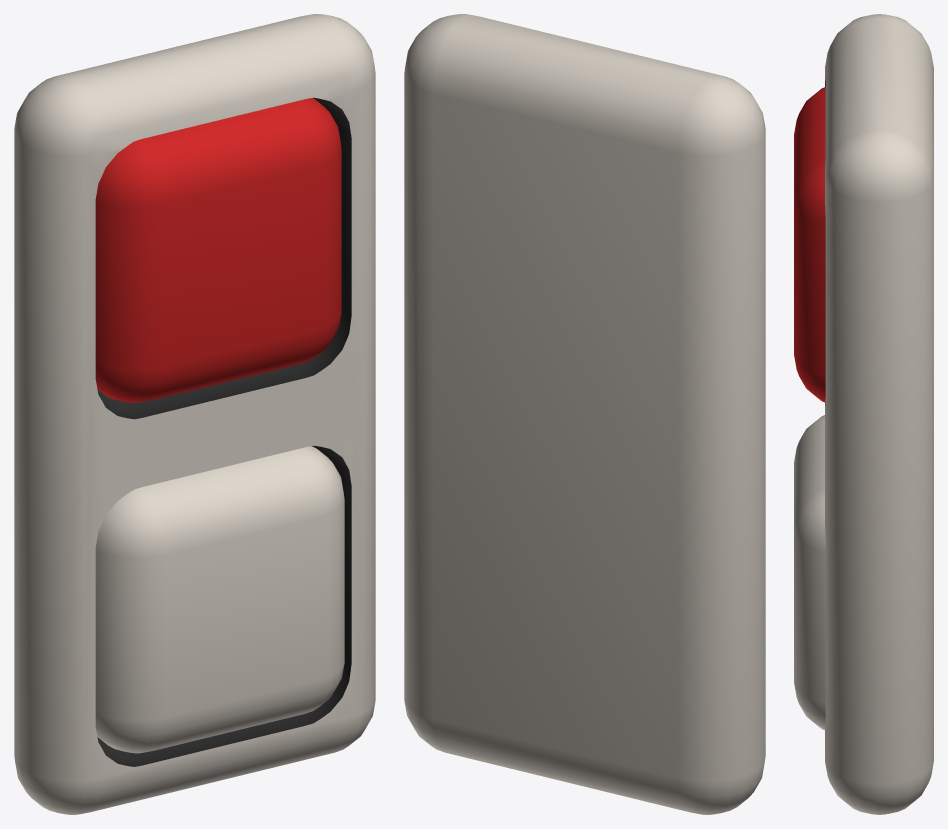
The model's file is SwitchDoble.fbx.
3 renders of one model, left to right at view 1: azimuth 30°, elevation 25°; view 2: azimuth 150°, elevation 25°; view 3: azimuth 270°, elevation 25°, orthographic. The views are drawn at different scales.
Parts seen in each view (by area): view 1: Switch_doble_1; view 2: Switch_doble_1; view 3: Switch_doble_1.
Part boxes in pixels (x1,y1,x2,y2): Switch_doble_1: (14,14,375,814); Switch_doble_1: (404,14,765,814); Switch_doble_1: (794,14,933,814).
Size of the model in its own units: 4.28 by 8.62 by 1.61.
